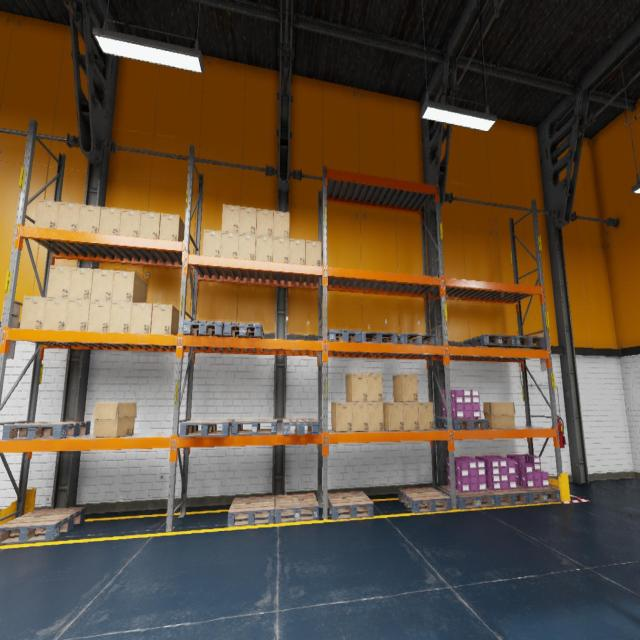box: (92, 402, 136, 437), (112, 270, 147, 302), (151, 303, 179, 335), (20, 296, 46, 329), (483, 402, 515, 428), (46, 266, 72, 298), (65, 298, 90, 330), (43, 298, 68, 330), (69, 267, 93, 299), (91, 268, 114, 301), (34, 199, 59, 229), (130, 302, 153, 334), (88, 300, 111, 332), (393, 373, 418, 402), (109, 301, 132, 332), (159, 213, 184, 241), (56, 202, 80, 230), (78, 204, 101, 233), (346, 373, 368, 402), (99, 206, 121, 235), (139, 211, 161, 239), (119, 208, 141, 236), (383, 402, 404, 431), (332, 402, 352, 432), (239, 206, 257, 235), (222, 204, 240, 233), (256, 208, 274, 236), (203, 229, 221, 257), (238, 233, 256, 260), (352, 402, 368, 432), (220, 232, 238, 258), (367, 373, 383, 402), (368, 402, 384, 431), (418, 402, 434, 430), (403, 402, 419, 430), (273, 210, 289, 238), (255, 236, 272, 262), (289, 238, 305, 264), (273, 237, 289, 263), (306, 240, 322, 265)
pallets: (0, 506, 86, 544), (1, 421, 90, 440), (228, 495, 274, 527), (328, 490, 374, 520), (398, 487, 451, 513), (440, 485, 496, 509), (275, 493, 319, 523), (179, 419, 235, 436), (517, 484, 561, 504), (485, 488, 529, 507), (231, 418, 277, 435), (182, 319, 225, 336), (463, 334, 515, 348), (224, 322, 264, 338), (282, 418, 319, 435), (436, 418, 488, 430), (505, 335, 545, 349), (362, 331, 398, 344), (398, 333, 436, 345), (328, 329, 362, 342)
